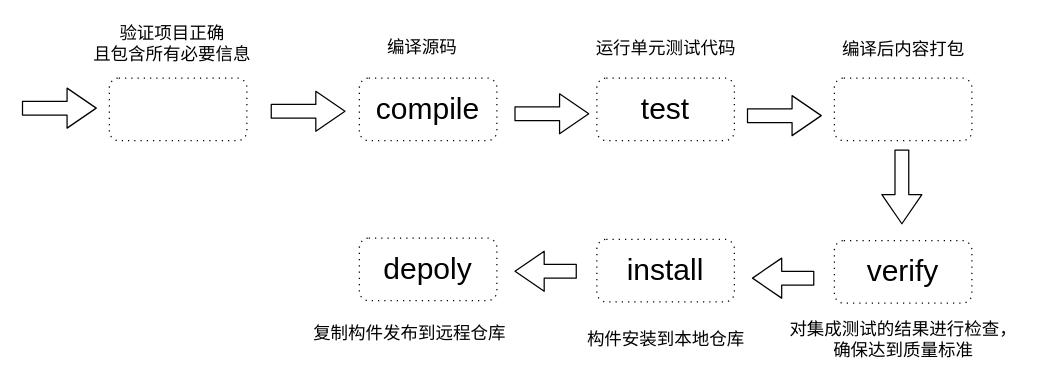
This 1049x381 diagram has some shape labels left out. Each missing label, with the centre of its shape:
"package" belongs at point (902, 109).
"validate" belongs at point (177, 109).
